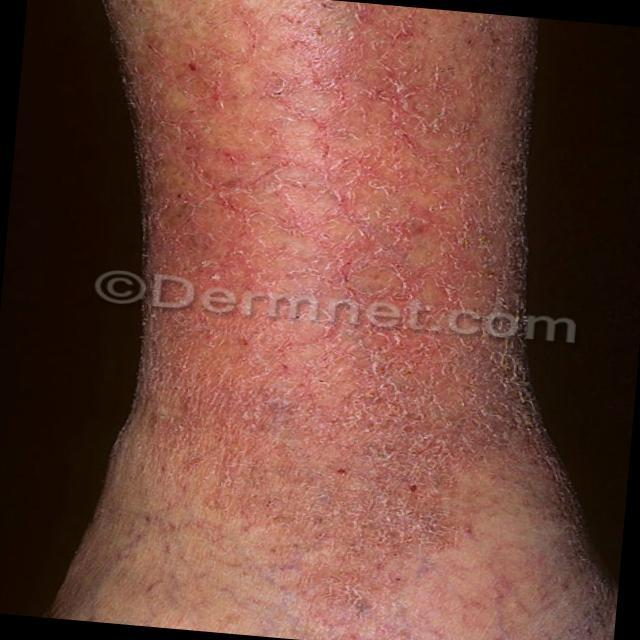Eczema: (136, 0, 523, 566)
